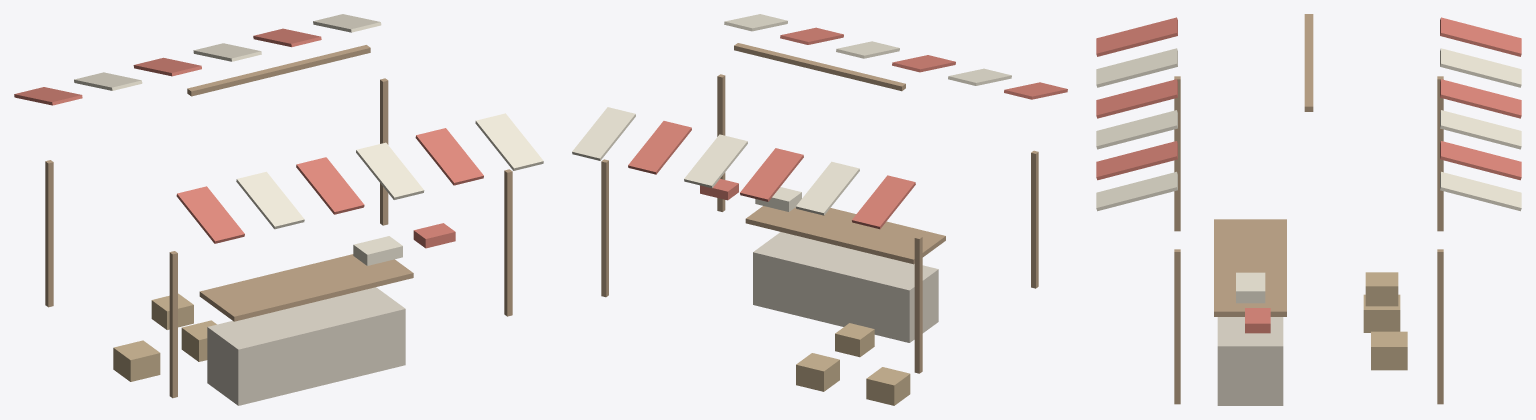
Rendered from market_stall.glb.
3 renders of one model, left to right at view 1: azimuth 30°, elevation 25°; view 2: azimuth 150°, elevation 25°; view 3: azimuth 270°, elevation 25°, orthographic. The views are drawn at different scales.
Visible parts, largest first — view 1: MarketStall; view 2: MarketStall; view 3: MarketStall.
Boxes of the visible parts, x1,y1,x2,y2 form: MarketStall: (14, 14, 543, 405); MarketStall: (572, 14, 1067, 405); MarketStall: (1096, 14, 1521, 405).
Size of the model in its own units: 2.85 by 2.42 by 2.91.
